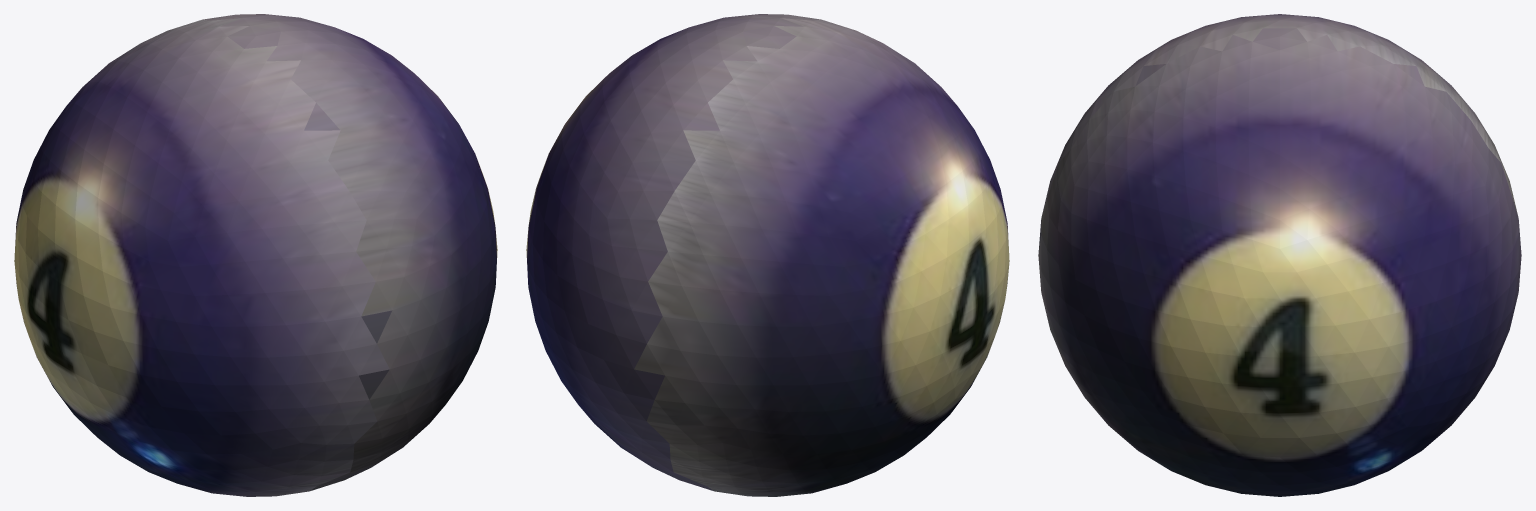
The model's file is balll_4.glb.
3 renders of one model, left to right at view 1: azimuth 30°, elevation 25°; view 2: azimuth 150°, elevation 25°; view 3: azimuth 270°, elevation 25°, orthographic.
Parts seen in each view (by area): view 1: Ball_1; view 2: Ball_1; view 3: Ball_1.
Boxes of the visible parts, x1,y1,x2,y2 form: Ball_1: (14, 14, 497, 496); Ball_1: (526, 14, 1009, 496); Ball_1: (1038, 14, 1521, 496).
Size of the model in its own units: 2 by 2 by 2.
Materials: 1 (1 with a texture image).
